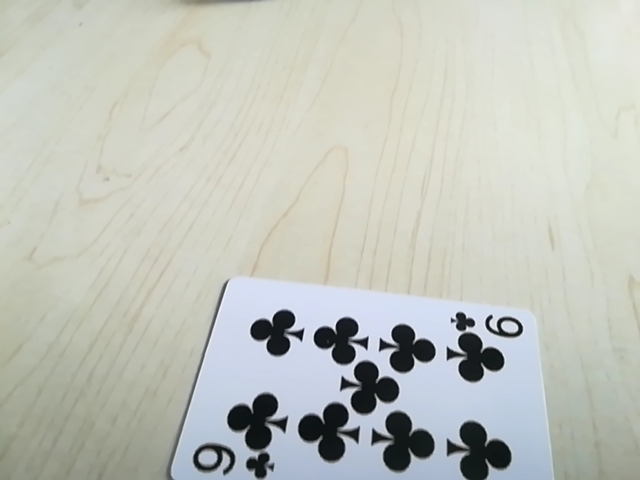mh 9: (447, 308, 528, 341), (193, 451, 277, 479)
